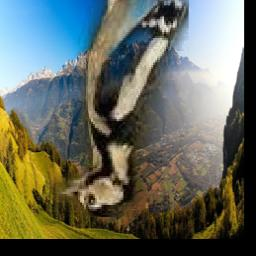Woodpecker: (54, 0, 189, 217)
